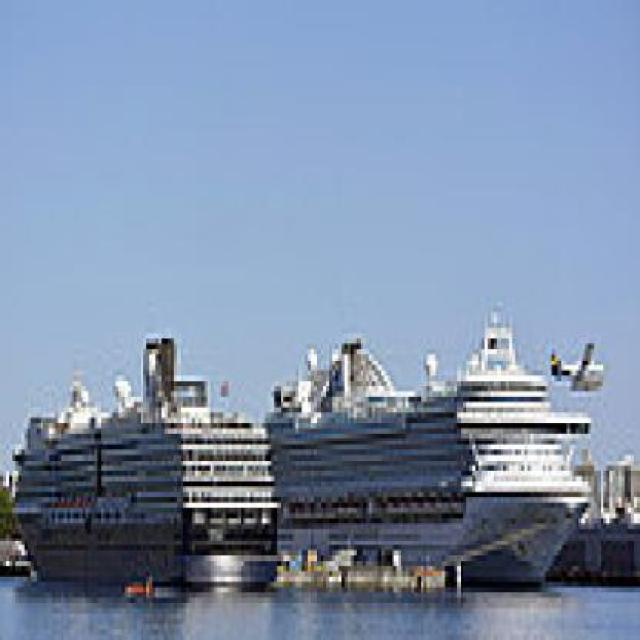cruise: (260, 308, 602, 583), (10, 323, 279, 599)
